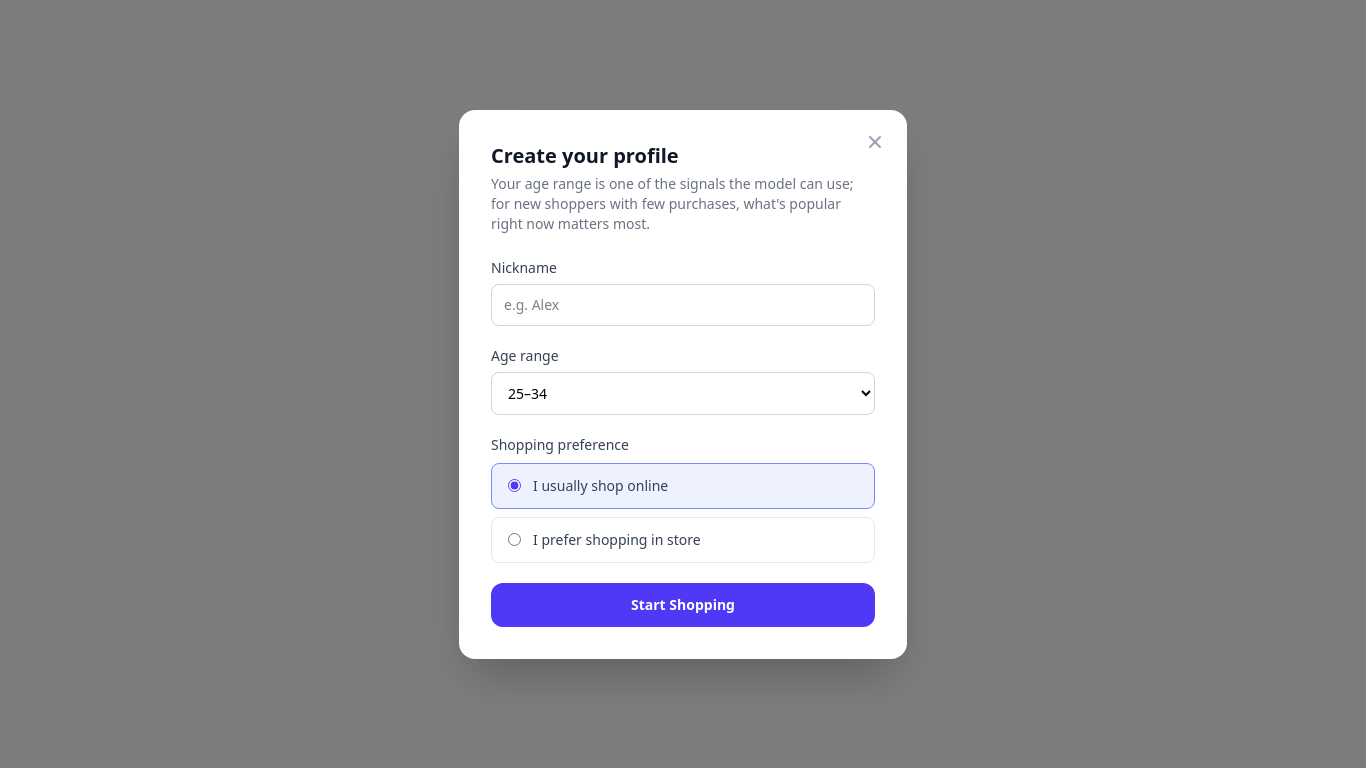
ProfileModal › shows validation error for empty nickname
This screenshot has width=1366, height=768.
Click the button "Start Shopping" at (683, 604), box [491,582,875,626]
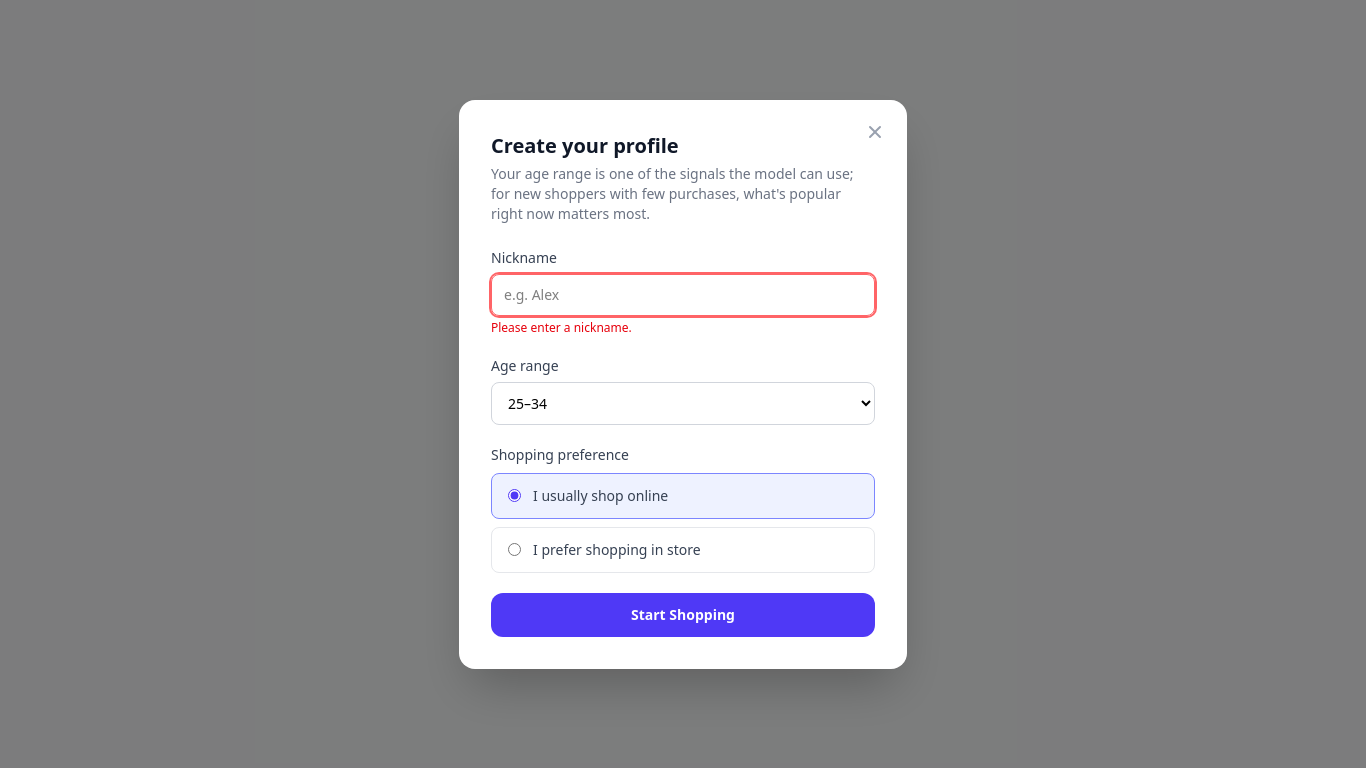
Result: the text "Please enter a nickname." is shown at [491,318,632,336]
